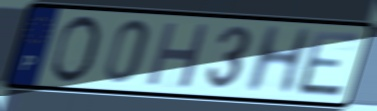0: (101, 17, 152, 88)
3: (203, 24, 253, 92)
E: (295, 28, 364, 100)
H: (240, 23, 316, 96), (143, 19, 213, 91)
O: (46, 13, 103, 85)
